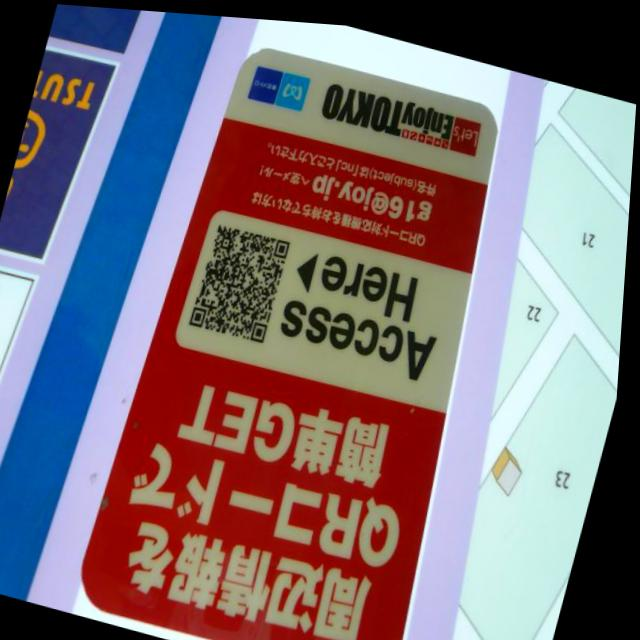qrcode: (192, 217, 293, 341)
